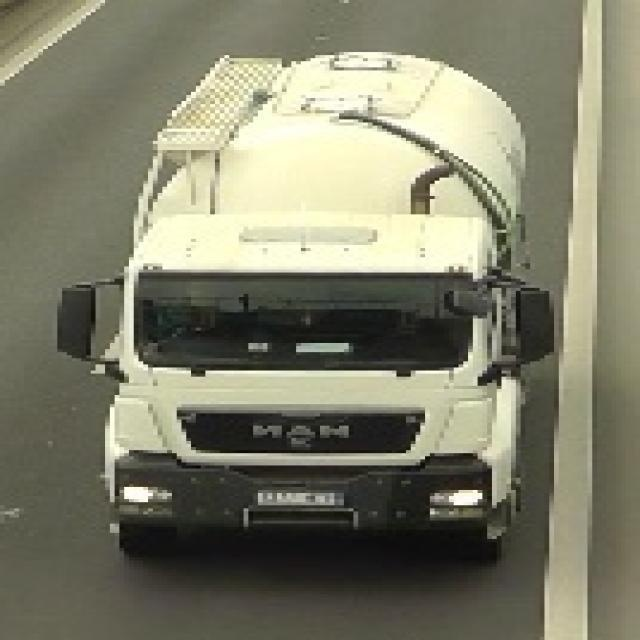Truck: (57, 42, 554, 570)
